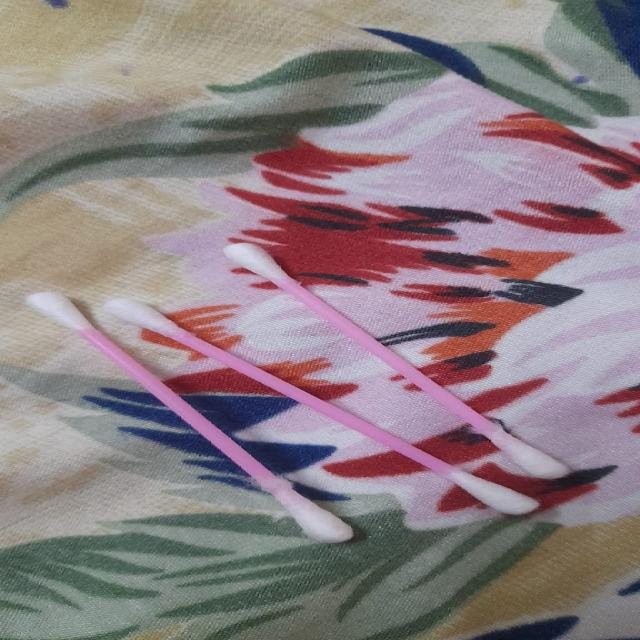Earbud - Non Recyclable: (8, 214, 606, 559)
